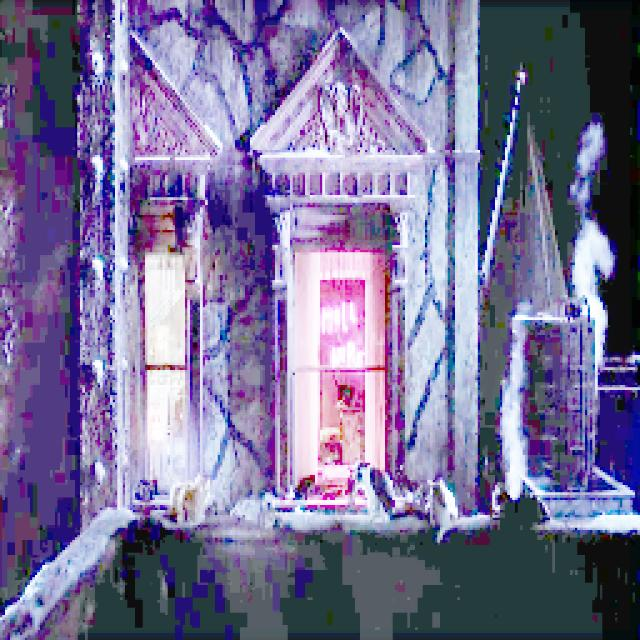cat: (347, 458, 398, 528), (156, 472, 222, 526), (410, 477, 458, 530)
